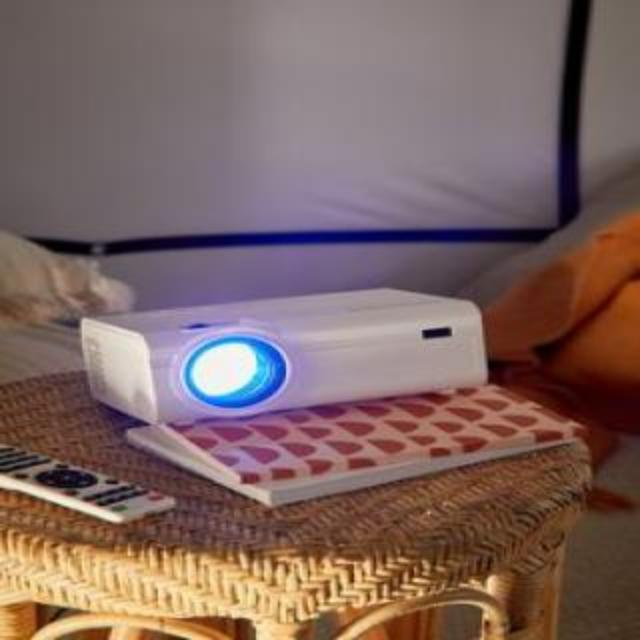Projector: (80, 286, 488, 426)
